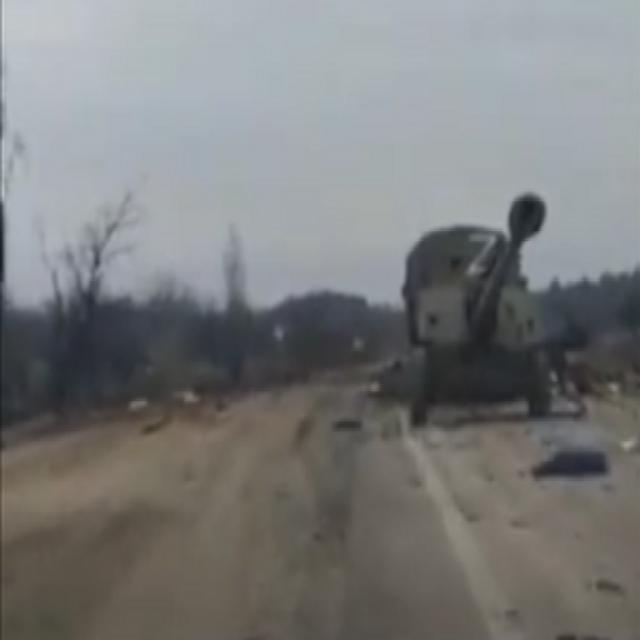ART: (400, 191, 566, 422)
